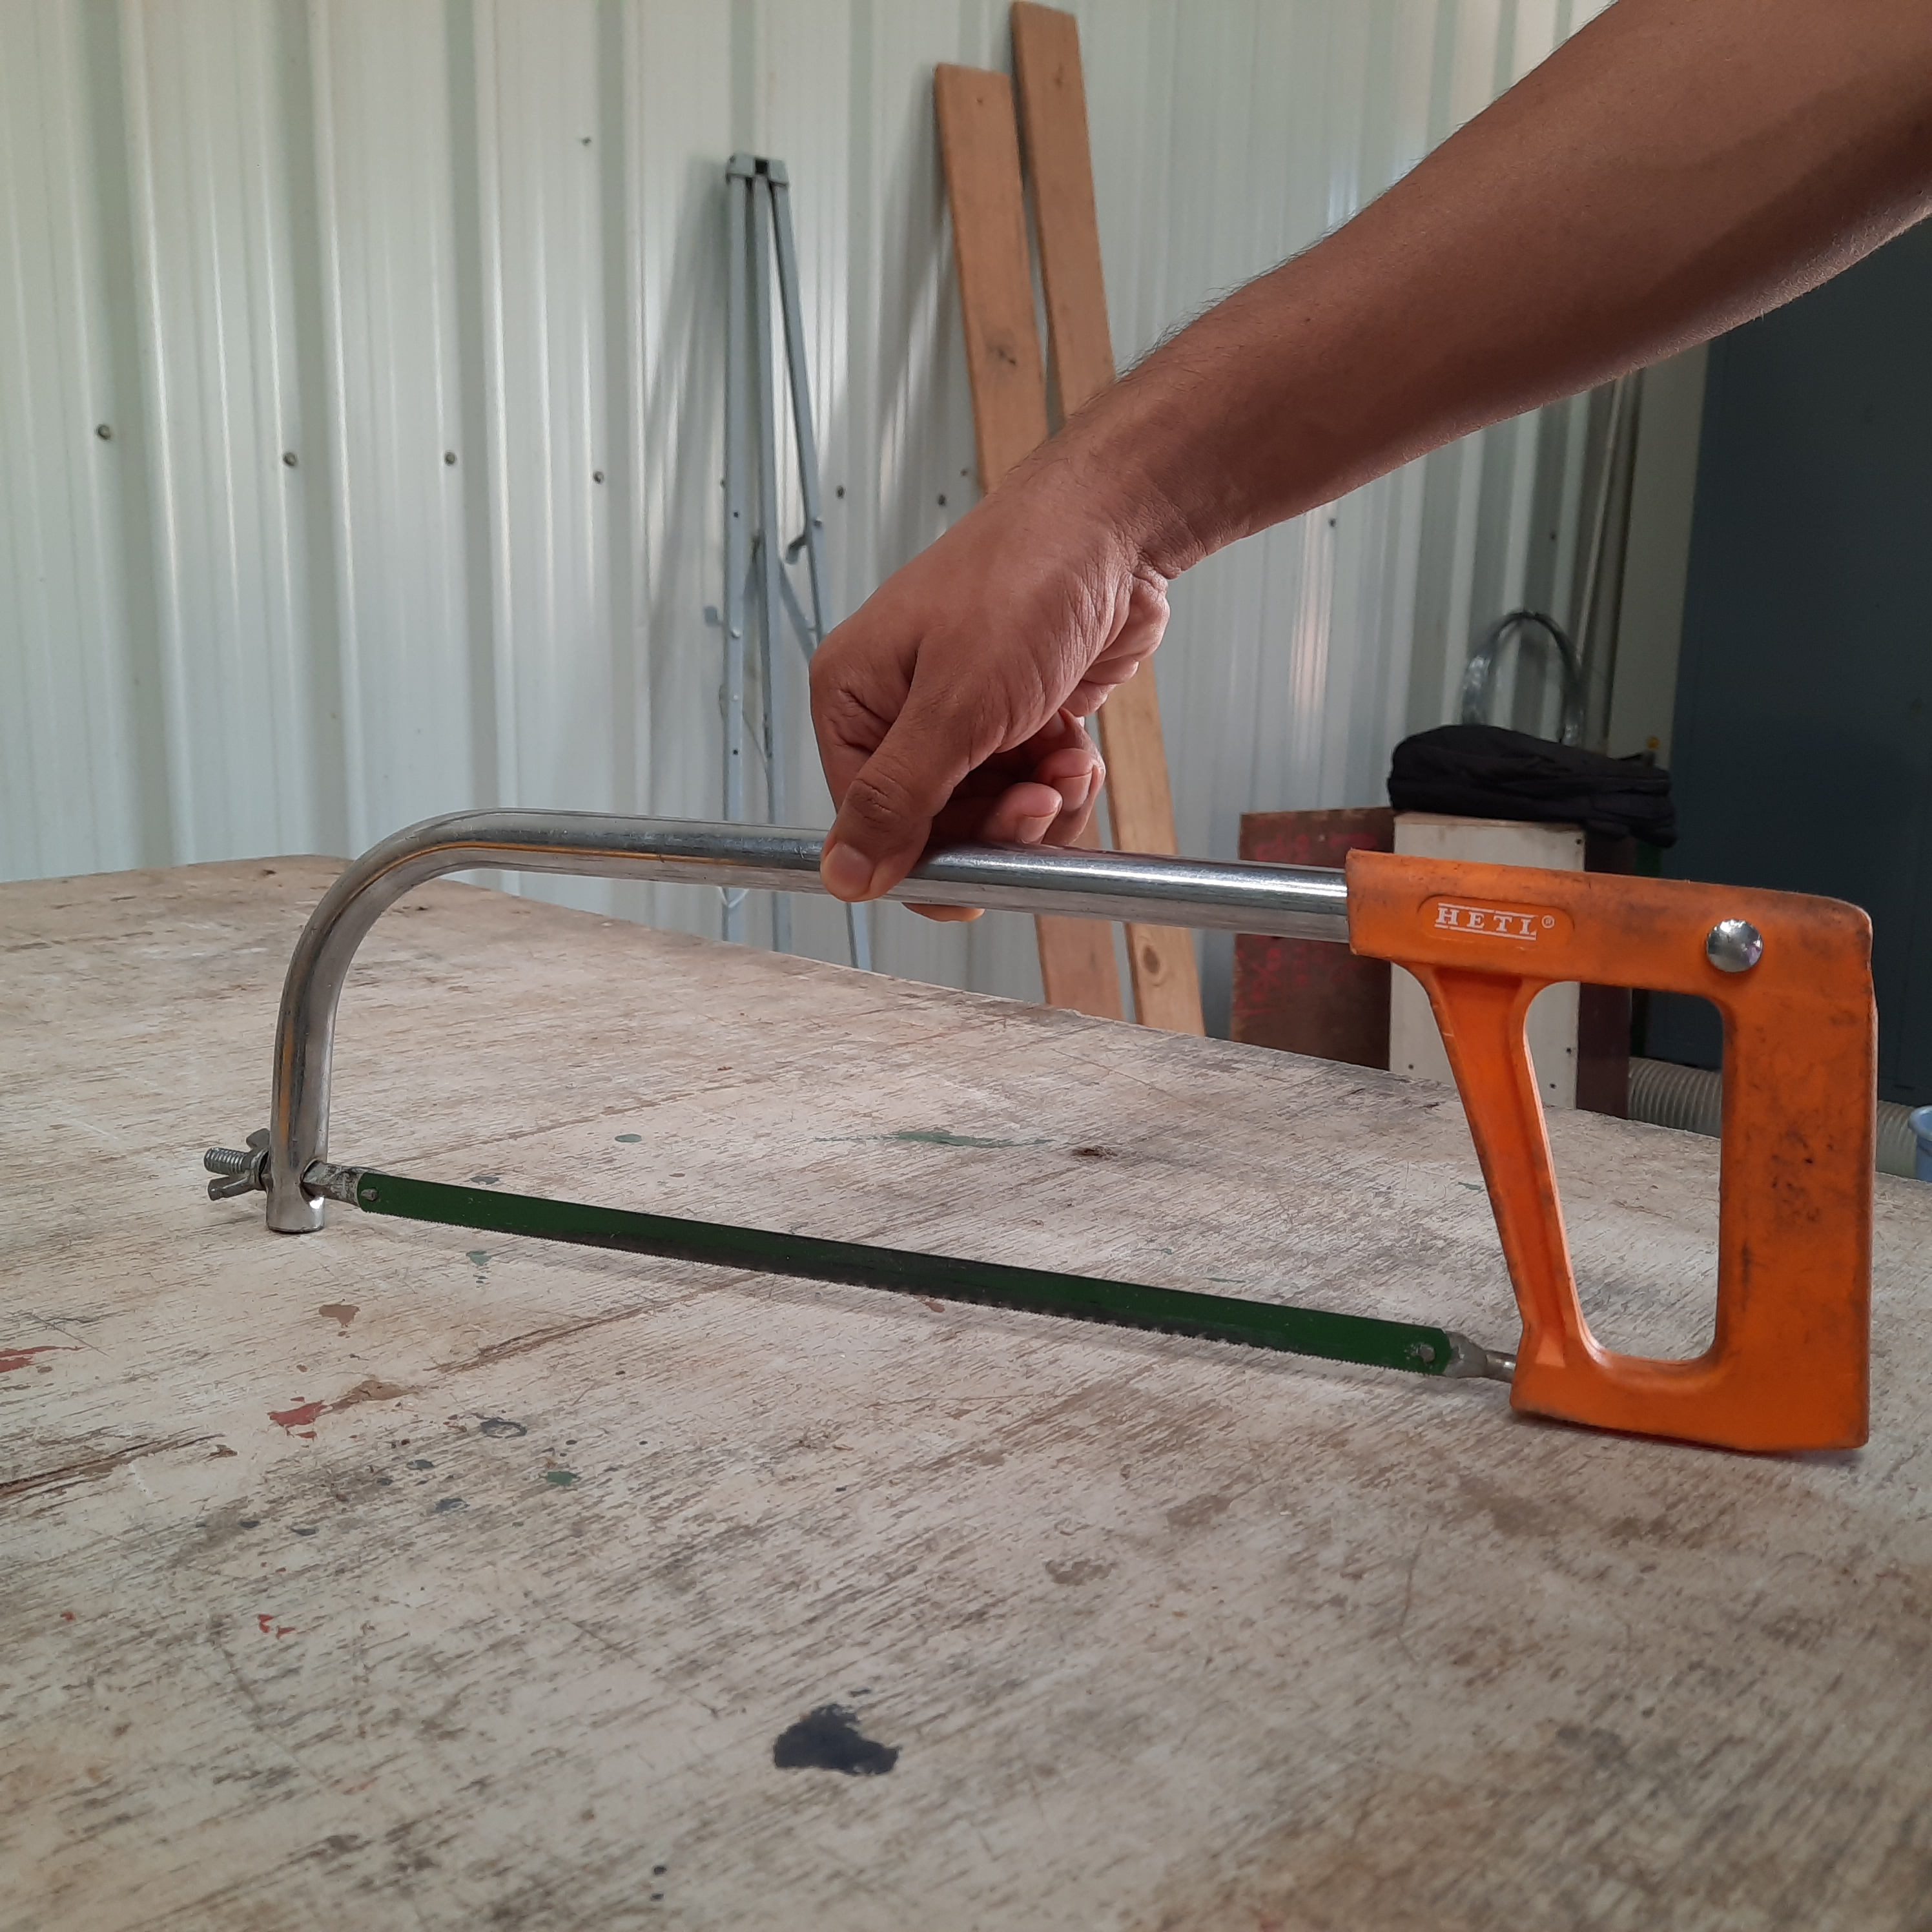Hexaframe: (209, 764, 1852, 1488)
